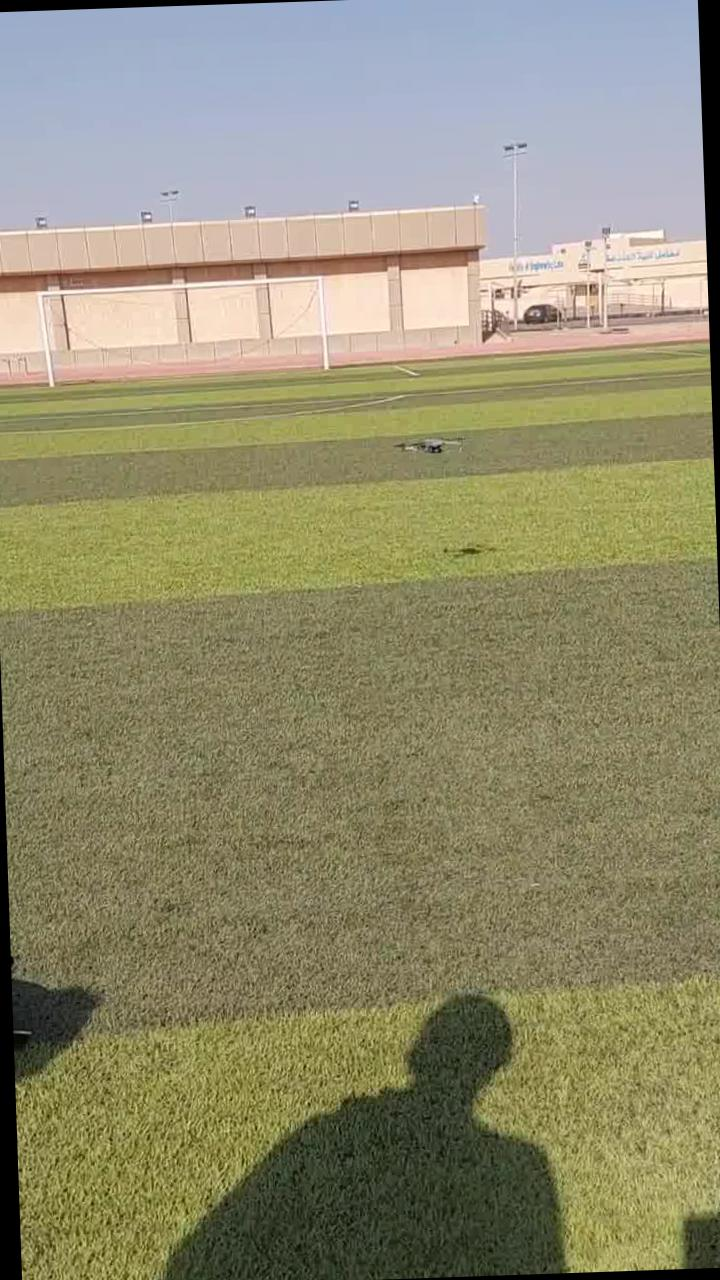drone: (382, 418, 459, 462)
